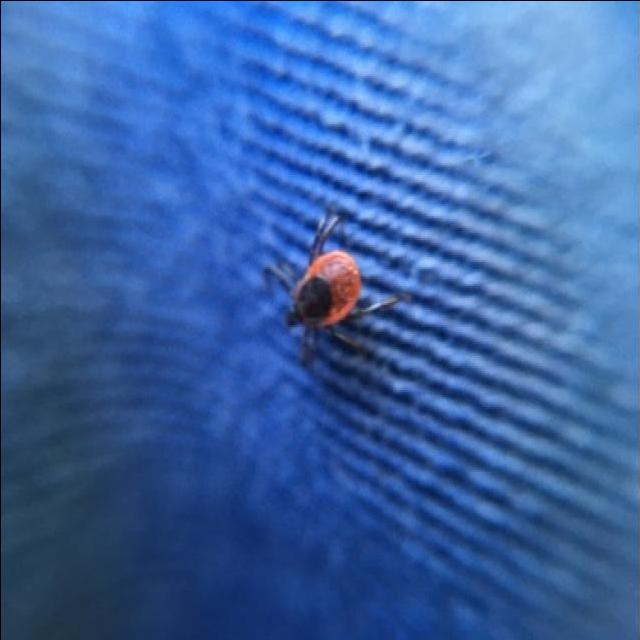Ixodes Ricinus-F: (287, 210, 399, 362)
